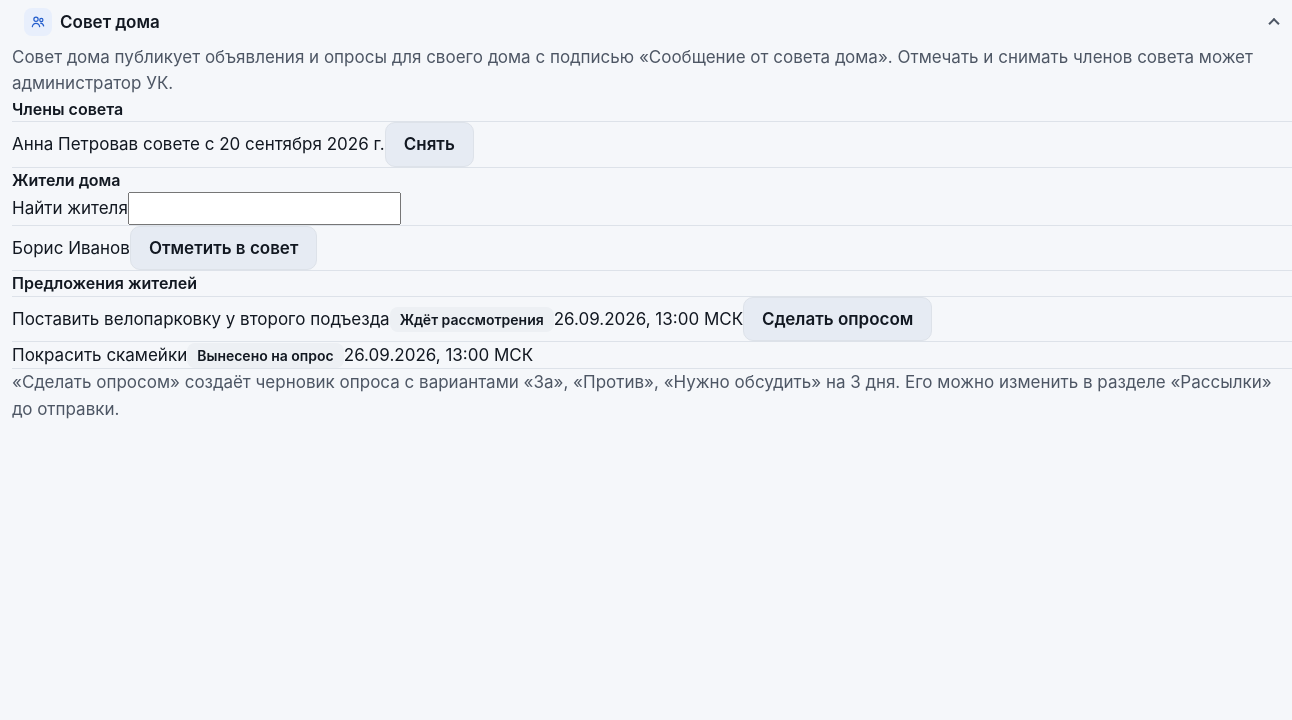
Test: Совет дома в кабинете УК (D4) › администратор отмечает жителя в совет с основанием: в запросе user_id и reason
Click the button with aria-label "Отметить в совет: Борис Иванов".
click(224, 248)  # box [130, 226, 317, 270]
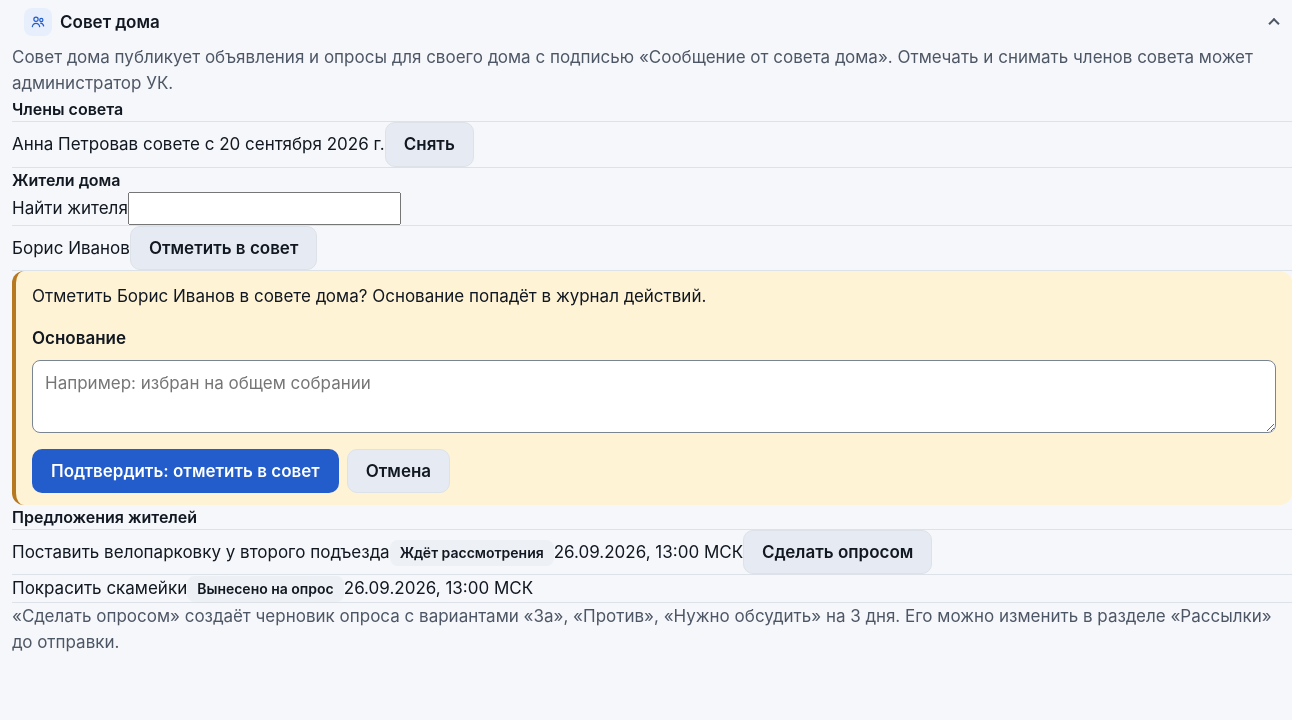
Type "Избран на общем собрании" into the text box labelled "Основание".
click(654, 396); type("Избран на общем собрании")  # box [32, 360, 1276, 432]
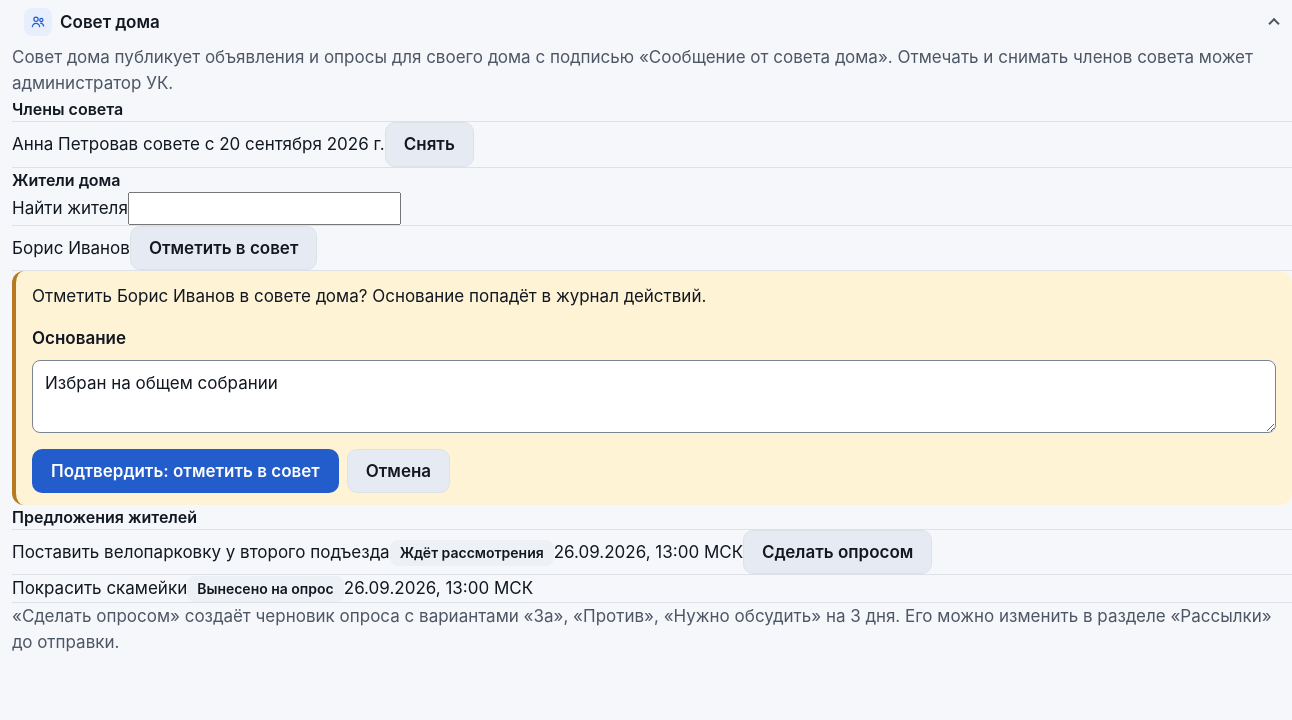
Click the button "Подтвердить: отметить в совет".
click(185, 471)  # box [32, 448, 339, 493]
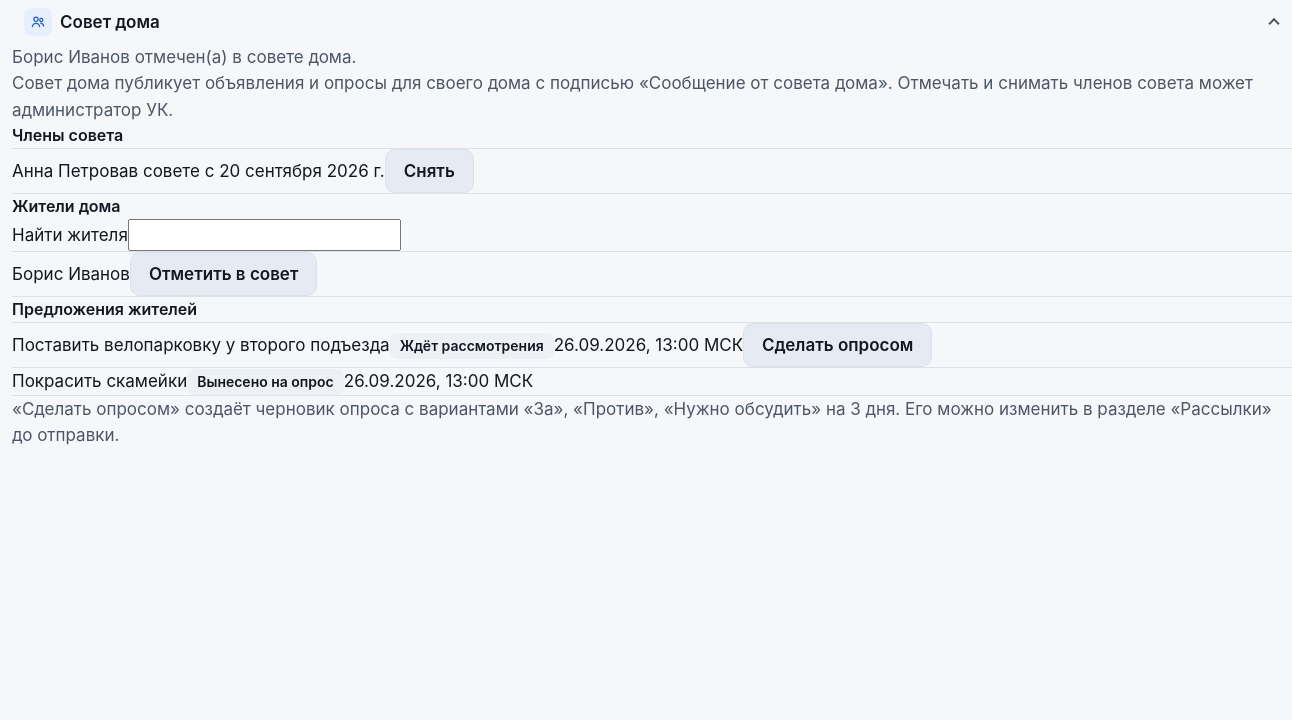
Expected: the text "Борис Иванов отмечен(а) в совете дома." is shown, [12, 47, 356, 67]
